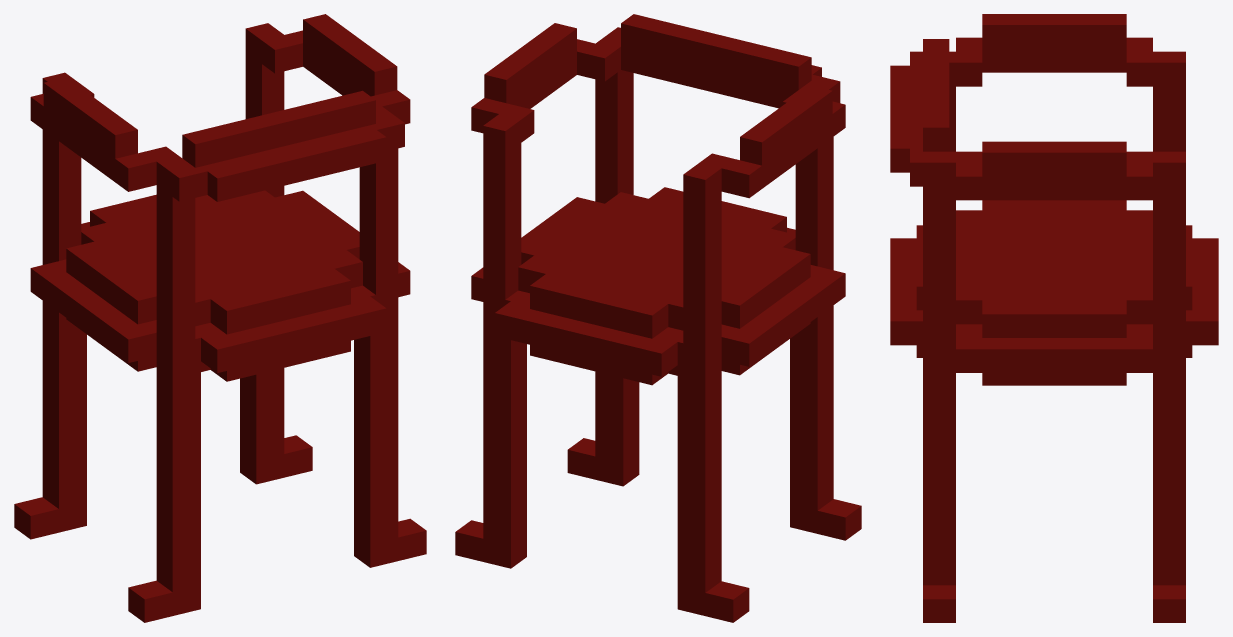
The model's file is Brepred.glb.
The picture shows the model from 3 angles, left to right: view 1: azimuth 30°, elevation 25°; view 2: azimuth 150°, elevation 25°; view 3: azimuth 270°, elevation 25°; orthographic projection. The views are drawn at different scales.
Visible parts, largest first — view 1: Brep red; view 2: Brep red; view 3: Brep red.
Part boxes in pixels (x1,y1,x2,y2): Brep red: (14,14,426,622); Brep red: (455,14,861,622); Brep red: (890,14,1218,622).
Size of the model in its own units: 5 by 7.9 by 5.
